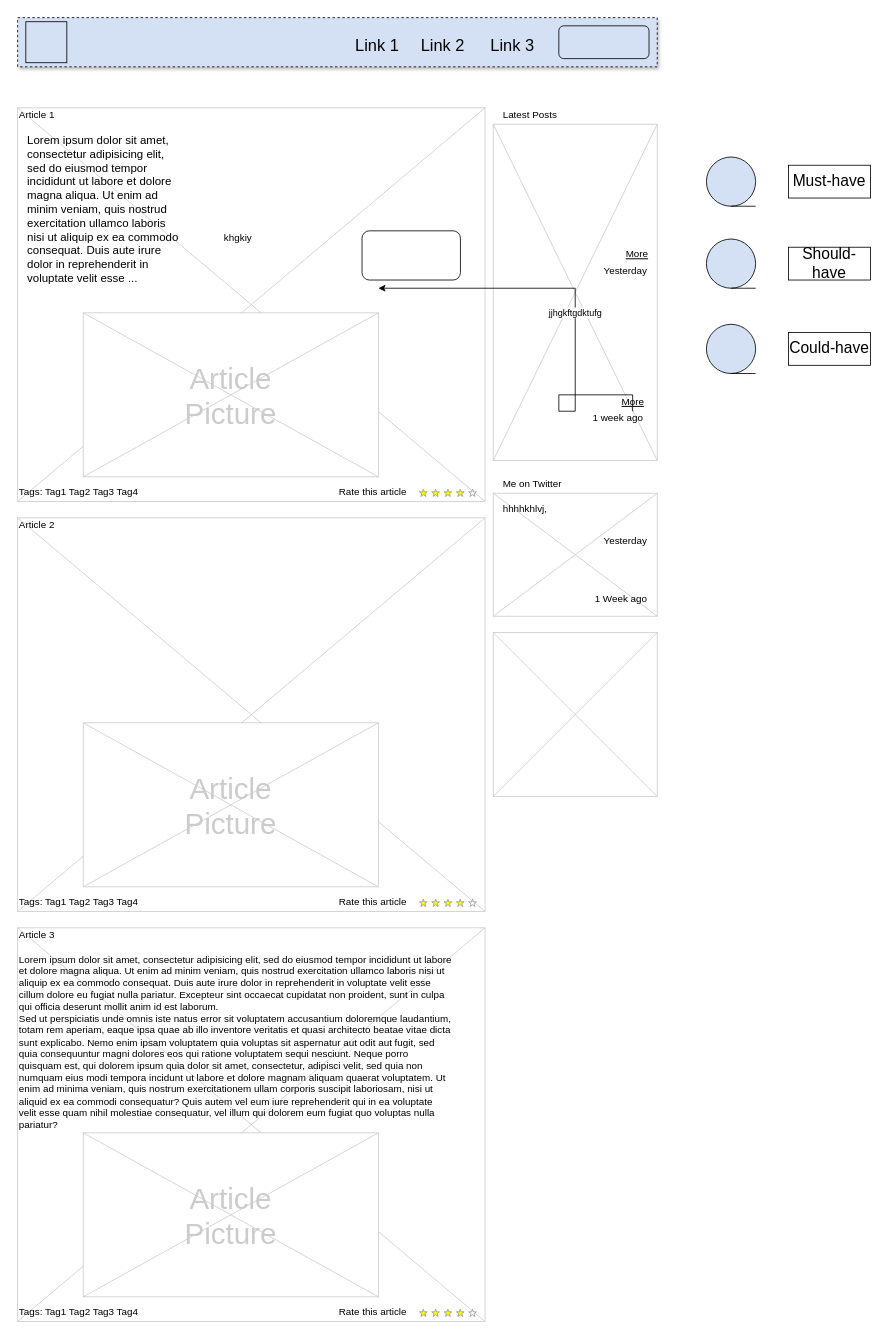
The diagram is 885 pixels wide and 1336 high, and some of its shapes have lost their labels. The shapes that lost their labels are listed below. From the top down, each one's centre as x and y in pixels, then its label:
At (46,42): "HYF LOGO".
At (603,42): "Apply button".
At (574,714): "Tag Cloud".
